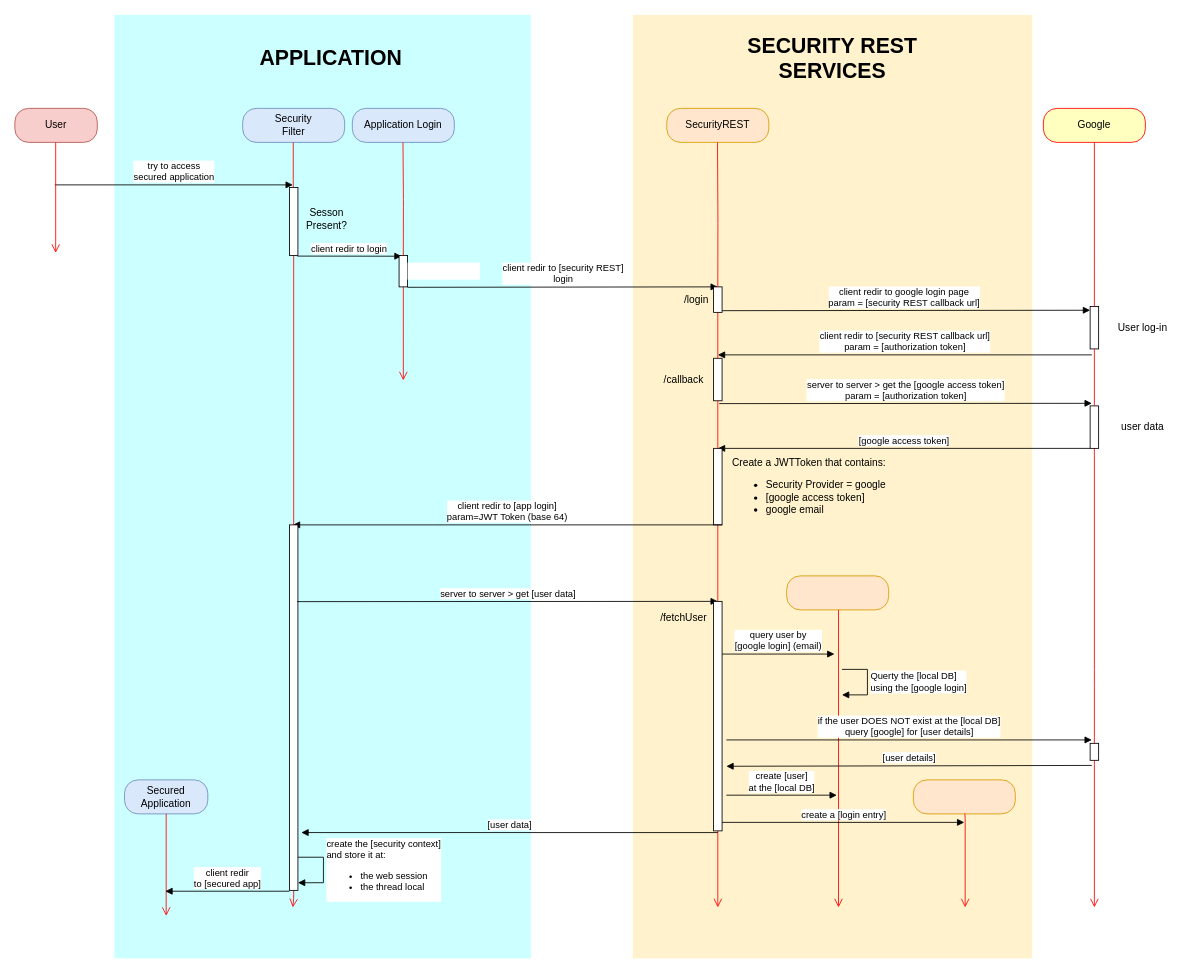
Some shapes in this 1200 by 972 pixel diagram are drawn without their labels. Here are the shapes that lost their labels. From the top down, the box of each, then its label:
(407, 262, 479, 279): Login Page Google clicked
(786, 575, 889, 610): User CRUD
(912, 779, 1015, 814): Login EntryCRUD
